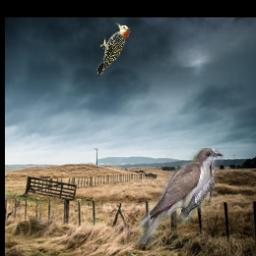Cuckoo: (137, 148, 223, 244)
Woodpecker: (96, 23, 130, 78)
